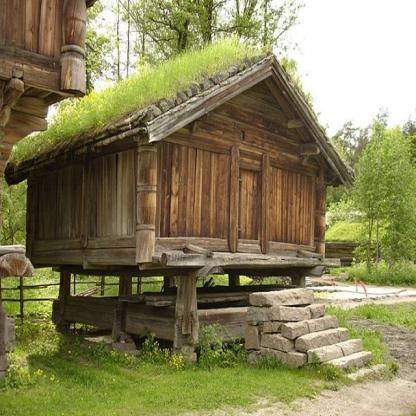Building Outline: (4, 42, 356, 362)
Dont: (244, 288, 374, 378)
Door: (238, 157, 263, 245)
Facade: (154, 120, 326, 266)
Floor Slab: (154, 254, 324, 266)
Raised Floor: (154, 133, 326, 255)
Roof: (4, 42, 356, 189)
